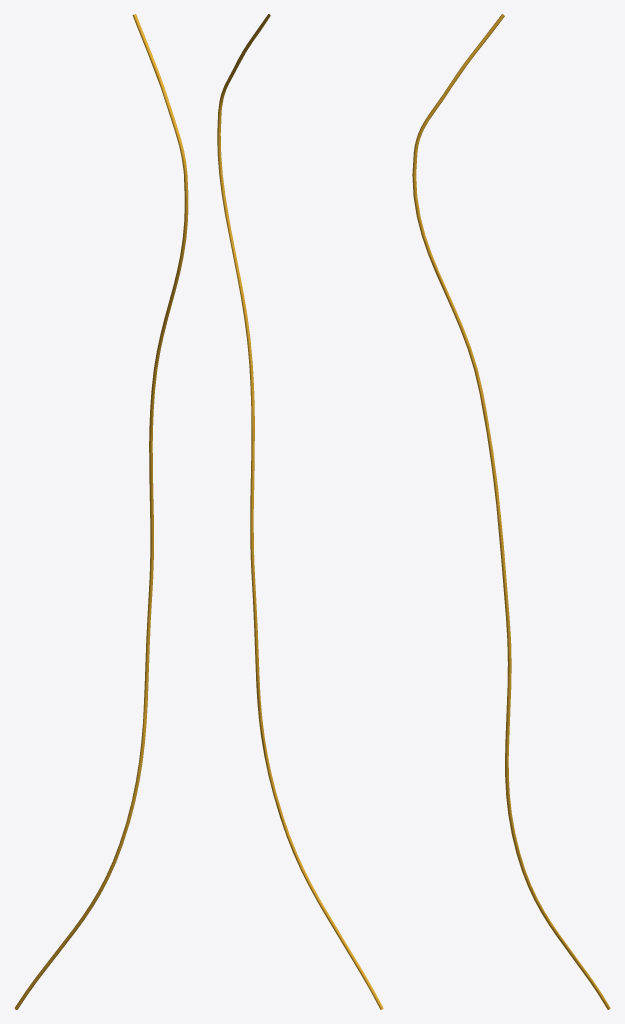
File: nervoso-anterior-branch-of-obturator-nerve-l.glb
3 views of the same model, side by side, from view 1: azimuth 30°, elevation 25°; view 2: azimuth 210°, elevation 25°; view 3: azimuth 270°, elevation 25° (orthographic). The views are drawn at different scales.
Parts seen in each view (by area): view 1: Anterior branch of obturator nerve.l; view 2: Anterior branch of obturator nerve.l; view 3: Anterior branch of obturator nerve.l.
Boxes of the visible parts, x1=… form: Anterior branch of obturator nerve.l: x1=14, y1=14, x2=188, y2=1009; Anterior branch of obturator nerve.l: x1=217, y1=14, x2=383, y2=1009; Anterior branch of obturator nerve.l: x1=412, y1=14, x2=610, y2=1009.
Bounding box in the file's own units: 0.0273 × 0.3045 × 0.0532.
